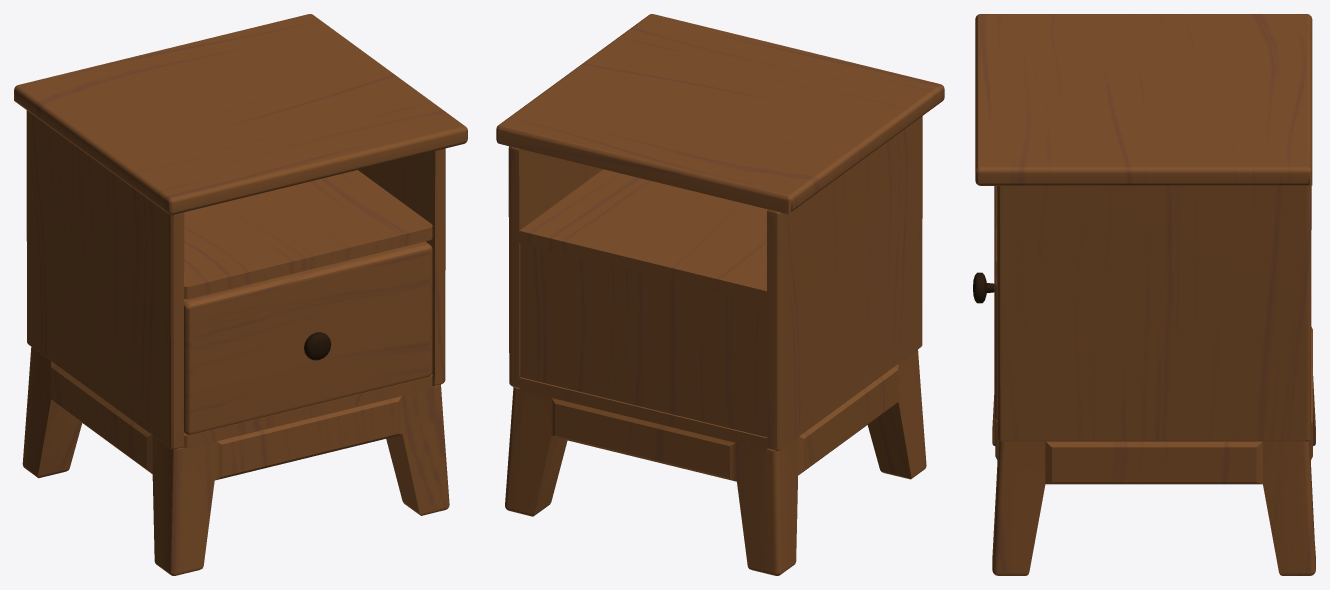
Rendered from Nightstand.fbx.
The picture shows the model from 3 angles, left to right: view 1: azimuth 30°, elevation 25°; view 2: azimuth 150°, elevation 25°; view 3: azimuth 270°, elevation 25°; orthographic projection. The views are drawn at different scales.
Visible parts, largest first — view 1: NightstandBase, Drawer; view 2: NightstandBase; view 3: NightstandBase, Drawer.
Boxes of the visible parts, x1=… form: NightstandBase: x1=14, y1=14, x2=467, y2=575; Drawer: x1=184, y1=241, x2=432, y2=435; NightstandBase: x1=496, y1=14, x2=944, y2=575; NightstandBase: x1=975, y1=14, x2=1315, y2=575; Drawer: x1=973, y1=186, x2=997, y2=420.
Bounding box in the file's own units: 54.59 × 67.33 × 50.53.
1 material, 1 textured.
